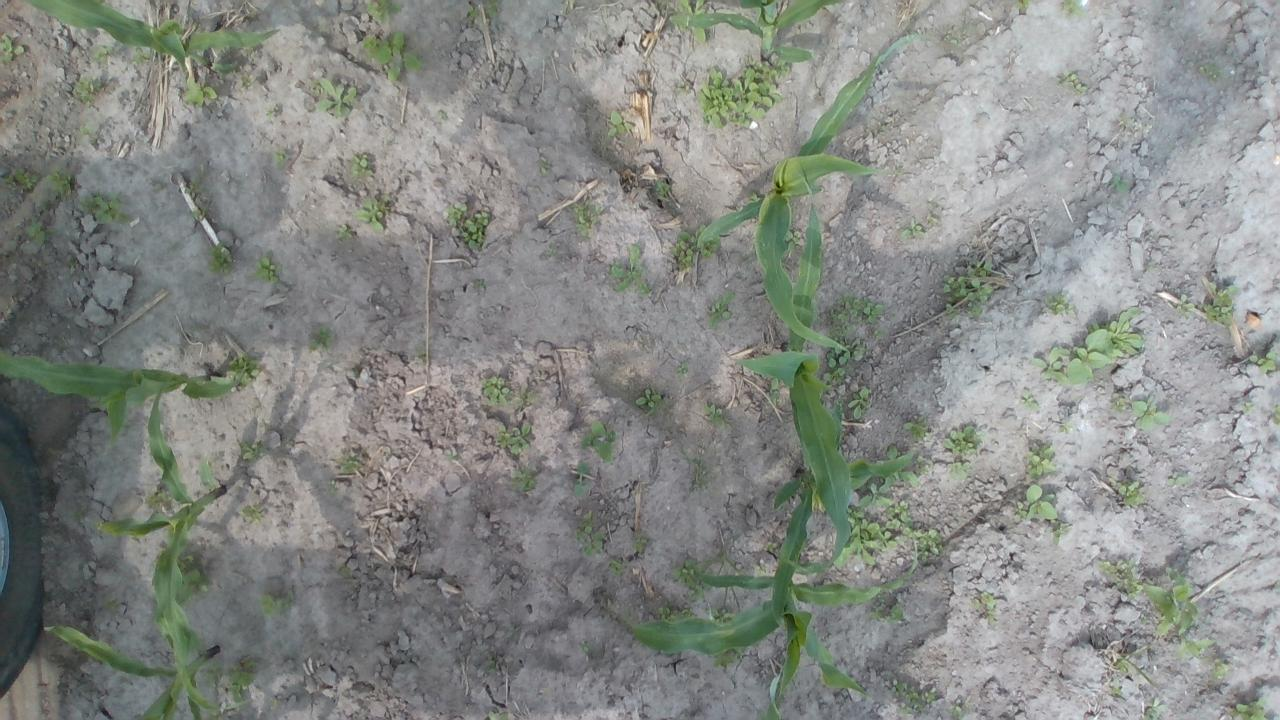Maize: (696, 32, 936, 350), (619, 550, 920, 720), (734, 170, 854, 576), (96, 386, 229, 708), (772, 400, 916, 628), (0, 352, 248, 437), (22, 0, 282, 81), (42, 625, 222, 720), (667, 0, 850, 63)
Weeds: (1032, 307, 1144, 385), (696, 54, 790, 130), (1142, 566, 1200, 638), (835, 508, 896, 568), (361, 30, 423, 83), (943, 260, 992, 320), (830, 292, 884, 338), (444, 203, 490, 251), (672, 224, 719, 270), (611, 244, 651, 297), (77, 190, 132, 227), (1198, 276, 1238, 326), (1097, 557, 1143, 599), (310, 78, 358, 116), (892, 679, 938, 716), (670, 559, 709, 600), (1015, 484, 1057, 522), (226, 660, 262, 702), (943, 424, 987, 458), (580, 421, 616, 462), (178, 554, 210, 600), (573, 510, 604, 556), (354, 194, 390, 232), (1132, 396, 1172, 430), (493, 421, 532, 455), (910, 527, 943, 564), (1025, 444, 1058, 480), (570, 202, 604, 235), (1108, 476, 1144, 507), (683, 454, 711, 493), (868, 595, 904, 625), (857, 478, 893, 508), (26, 213, 58, 246), (181, 78, 218, 106), (228, 354, 260, 386), (142, 484, 176, 514), (1173, 637, 1217, 660), (1228, 695, 1268, 720), (478, 375, 510, 406), (259, 591, 298, 616), (706, 292, 732, 329), (1, 168, 40, 192), (208, 240, 234, 276), (1116, 115, 1154, 138), (1056, 68, 1088, 94), (185, 163, 209, 197), (972, 591, 996, 625), (74, 76, 104, 103), (366, 0, 402, 22), (847, 386, 871, 419), (942, 23, 975, 47), (44, 170, 74, 196), (210, 700, 249, 720), (828, 338, 863, 360), (710, 647, 744, 669), (1046, 294, 1076, 318), (307, 327, 334, 353), (252, 256, 277, 284), (335, 449, 364, 473), (1248, 351, 1277, 375), (507, 468, 538, 490), (656, 606, 696, 623), (608, 110, 634, 136), (903, 415, 930, 440), (896, 502, 912, 544), (0, 36, 25, 62), (822, 357, 848, 382), (350, 152, 374, 178), (1140, 696, 1166, 720), (702, 404, 725, 430), (713, 552, 739, 574), (635, 388, 662, 409), (1046, 523, 1072, 544), (205, 662, 223, 692), (89, 44, 113, 66), (238, 504, 264, 524), (238, 441, 264, 460), (891, 471, 918, 489), (901, 218, 925, 238), (574, 462, 588, 496), (680, 26, 706, 44), (1176, 294, 1194, 320), (1198, 64, 1221, 84), (1109, 174, 1130, 195), (1020, 389, 1040, 411), (515, 391, 539, 409), (677, 0, 705, 15), (1062, 0, 1084, 19), (947, 462, 970, 480), (710, 607, 734, 624), (1210, 658, 1230, 678), (1114, 653, 1133, 674), (132, 48, 152, 66), (1166, 470, 1190, 485), (786, 229, 801, 252), (236, 71, 256, 88), (334, 223, 354, 240), (37, 196, 58, 212), (68, 509, 90, 524), (191, 203, 209, 221), (484, 0, 502, 18), (916, 457, 933, 476), (608, 558, 628, 574), (950, 698, 964, 720), (544, 245, 564, 260), (768, 377, 778, 406), (242, 46, 260, 62), (652, 182, 670, 198), (1106, 680, 1124, 696), (483, 652, 496, 674), (272, 148, 288, 165), (632, 534, 647, 552), (241, 9, 264, 20), (104, 594, 118, 612), (265, 105, 284, 118), (464, 4, 478, 21), (675, 80, 692, 94), (415, 346, 428, 364), (67, 255, 80, 273), (1269, 404, 1280, 425), (80, 122, 94, 138), (885, 444, 899, 460), (1111, 394, 1125, 410), (538, 156, 550, 174), (1059, 420, 1074, 434), (488, 711, 511, 720), (44, 446, 64, 456), (1240, 400, 1254, 414), (676, 361, 689, 376), (325, 479, 339, 492), (579, 640, 592, 654), (474, 278, 486, 292), (340, 566, 354, 578), (444, 449, 458, 461), (1142, 261, 1158, 271), (765, 540, 778, 552), (748, 192, 761, 204), (437, 110, 449, 122), (756, 564, 768, 576), (874, 123, 890, 132), (1014, 0, 1029, 9), (926, 214, 937, 223), (678, 715, 688, 720)
